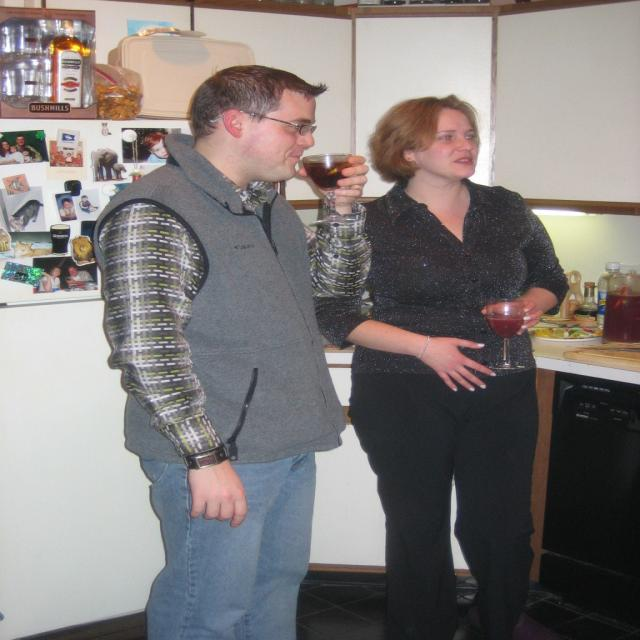Glasses: (192, 102, 330, 134)
